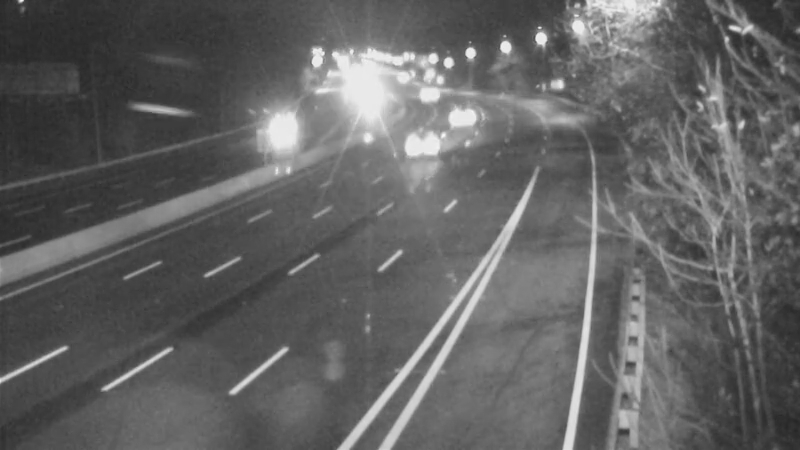vehicle: (406, 71, 456, 121), (439, 85, 489, 135), (395, 116, 445, 166), (260, 108, 310, 158)
